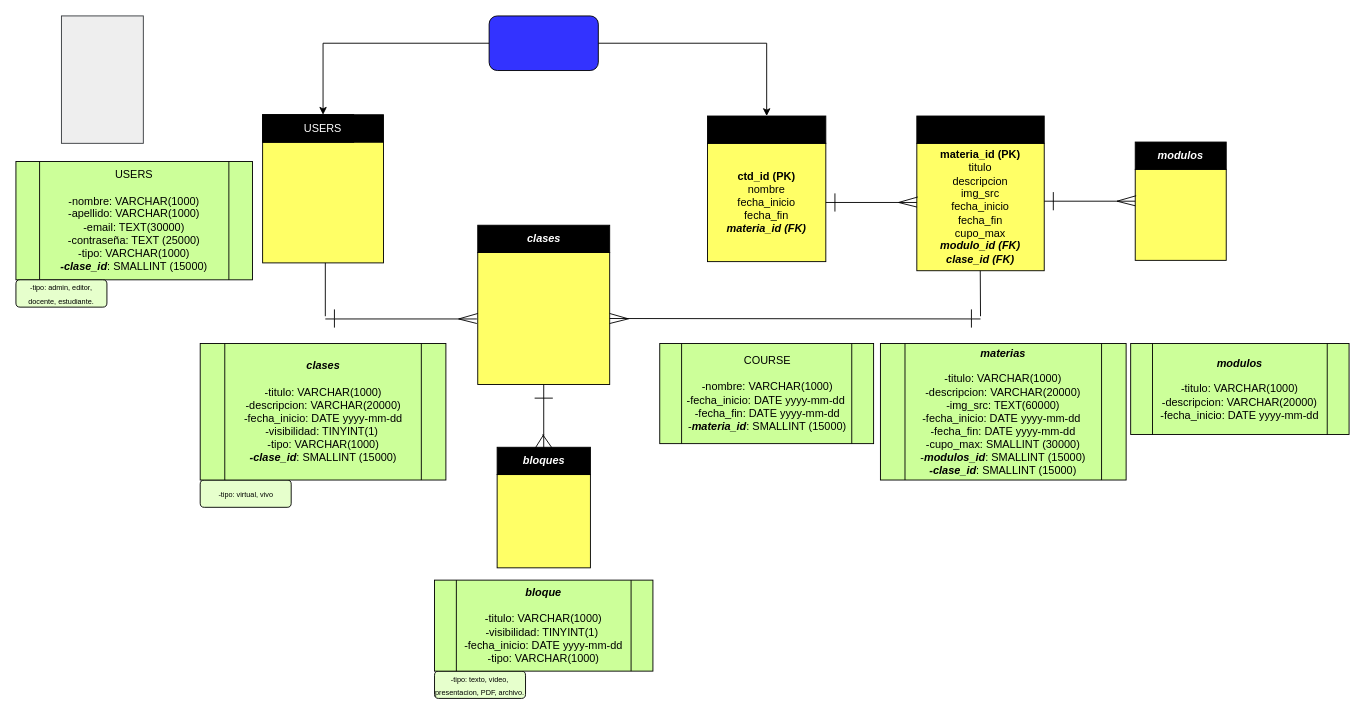
The diagram is 1365 pixels wide and 714 high, and some of its shapes have lost their labels. Each missing label, with the centre of its shape:
bloque_id (PK) titulo visibilidad tipo: (x=543, y=521)
clase_id (PK) titulo descripcion fecha_inicio visibilidad tipo bloque_id (FK): (x=543, y=318)
COURSE (carreras): (x=766, y=129)
materias: (x=980, y=129)
modulo_id (PK) titulo descripcion fecha_inicio: (x=1180, y=214)
PLAYGROUND: (x=543, y=43)
PROYECTO ENTIDADES ATRUBUTOS T/DE DATOS comentario: (x=102, y=79)
user_id (PK) nombre apellido email contraseña tipo clase_id (FK): (x=322, y=202)
